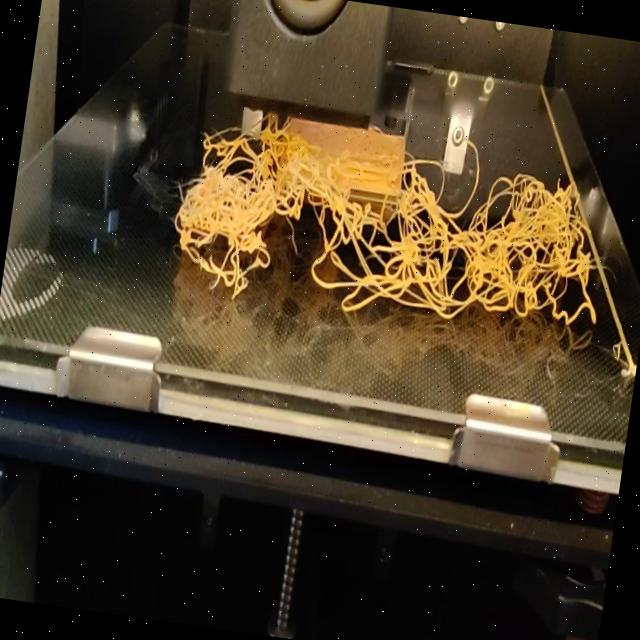spaghetti: (163, 98, 616, 349)
